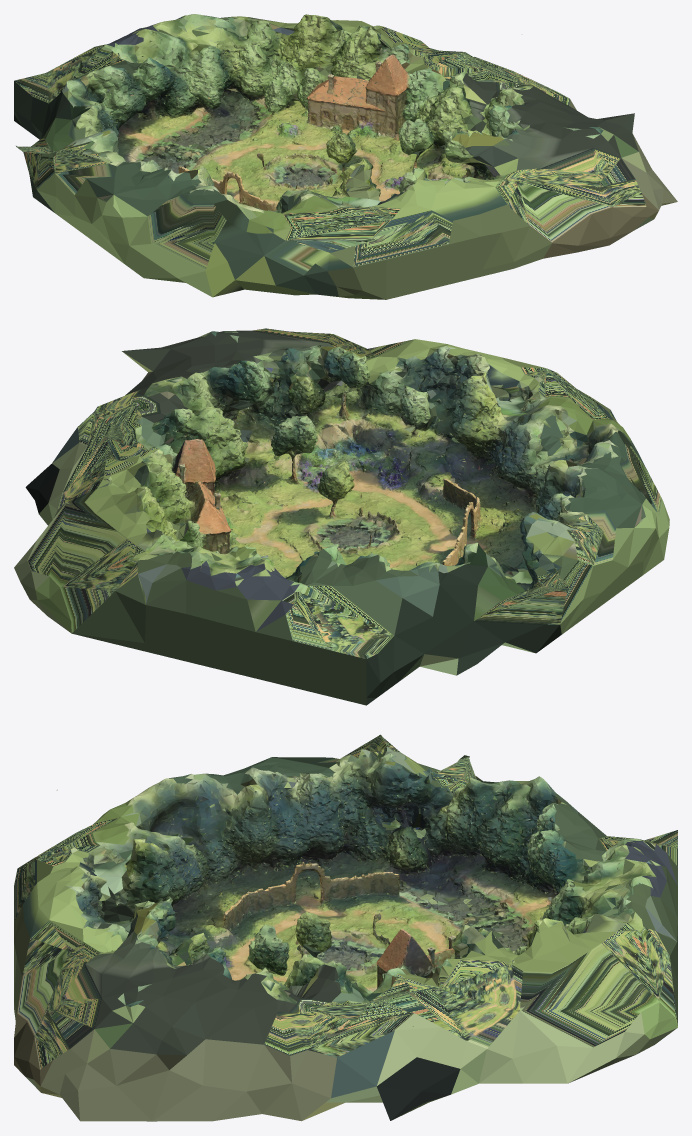
Rendered from garden4-2.glb.
The picture shows the model from 3 angles, top to bottom: view 1: azimuth 30°, elevation 25°; view 2: azimuth 150°, elevation 25°; view 3: azimuth 270°, elevation 25°; orthographic projection. The views are drawn at different scales.
Visible parts, largest first — view 1: mesh_Model_4; view 2: mesh_Model_4; view 3: mesh_Model_4.
Part boxes in pixels (box(x1,y1,x2,y2)): mesh_Model_4: box(14, 14, 677, 299); mesh_Model_4: box(14, 328, 669, 705); mesh_Model_4: box(14, 734, 677, 1121).
Bounding box in the file's own units: 46 × 8.14 × 43.8.
1 material, 1 textured.
